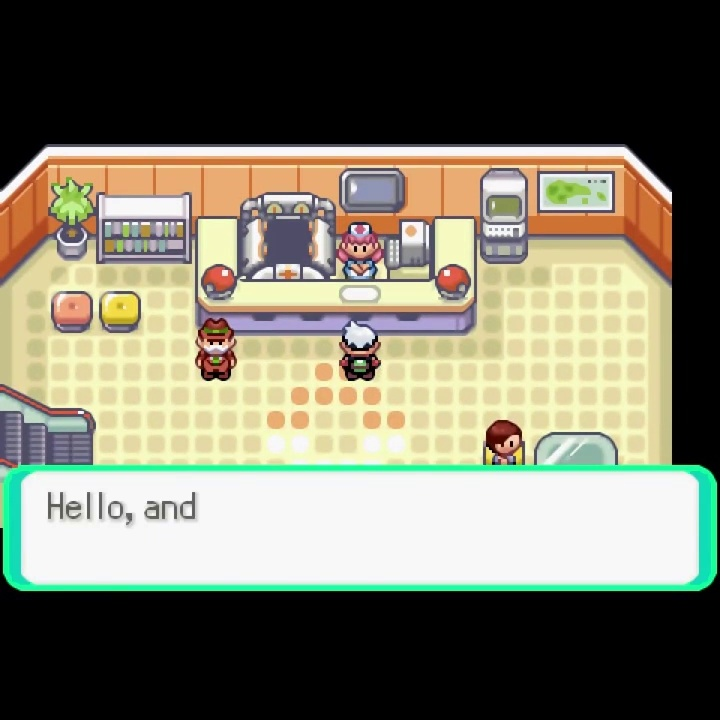agent: (336, 318, 384, 384)
npc: (334, 220, 385, 280), (194, 315, 238, 384), (484, 417, 523, 467)
